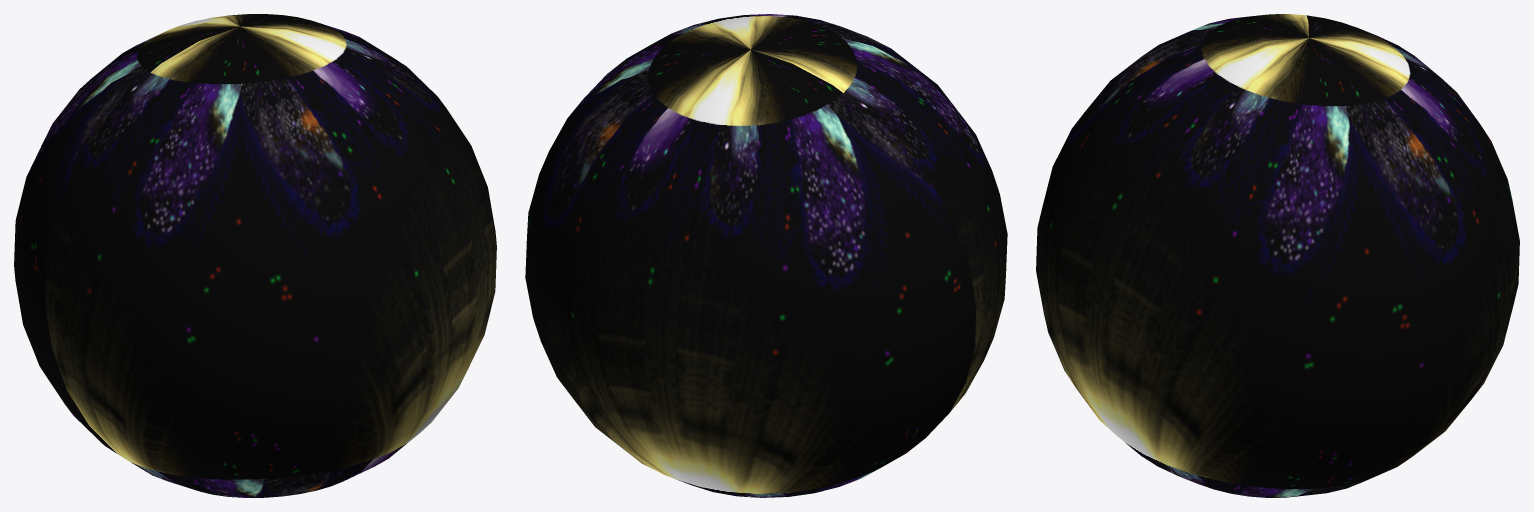
Rendered from Smash64RemixPlanetZebesOmega.glb.
The picture shows the model from 3 angles, left to right: view 1: azimuth 30°, elevation 25°; view 2: azimuth 150°, elevation 25°; view 3: azimuth 270°, elevation 25°; orthographic projection.
Parts seen in each view (by area): view 1: Sphere; view 2: Sphere; view 3: Sphere.
Part boxes in pixels (bbox=[...]): Sphere: bbox=[14, 14, 496, 497]; Sphere: bbox=[525, 14, 1007, 497]; Sphere: bbox=[1036, 14, 1519, 497].
Size of what is drawn, in the model's own units: 213 by 213 by 213.
18 materials, 16 textured.
